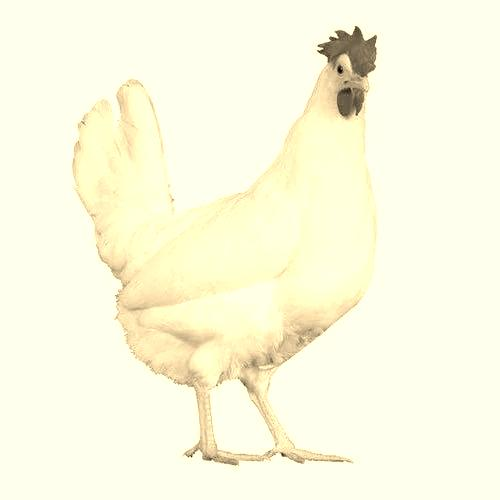Healthy: (65, 22, 389, 466)
